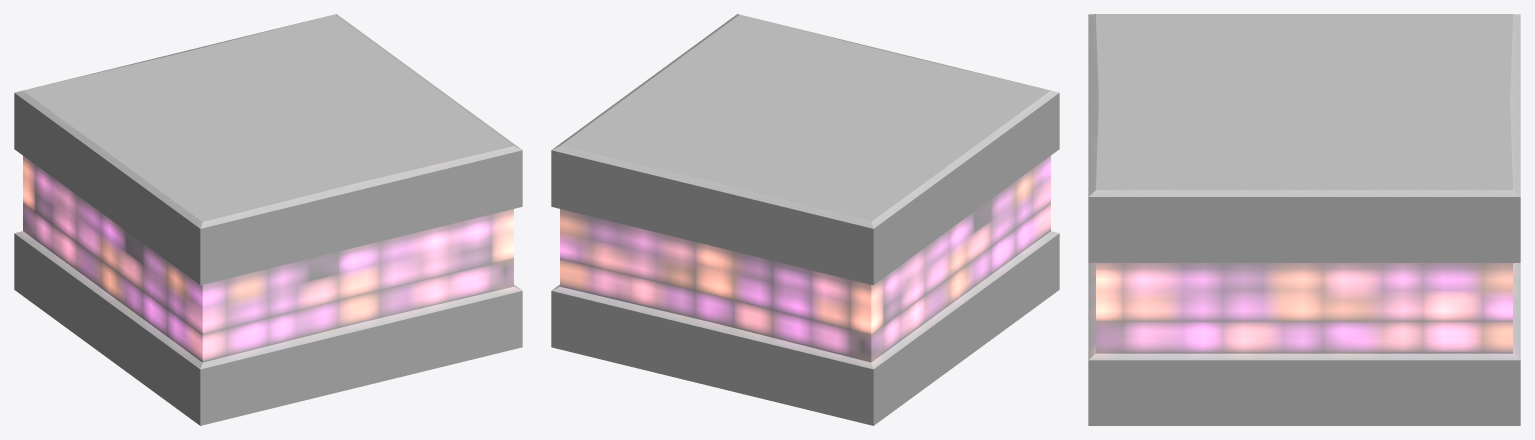
The model's file is BuildingHalfRoofBlock.fbx.
3 views of the same model, side by side, from view 1: azimuth 30°, elevation 25°; view 2: azimuth 150°, elevation 25°; view 3: azimuth 270°, elevation 25° (orthographic). The views are drawn at different scales.
Parts seen in each view (by area): view 1: BuildingHalfRoof; view 2: BuildingHalfRoof; view 3: BuildingHalfRoof.
Part boxes in pixels (x1,y1,x2,y2): BuildingHalfRoof: (14,14,522,425); BuildingHalfRoof: (551,14,1059,425); BuildingHalfRoof: (1088,14,1520,425).
Bounding box in the file's own units: 200 × 119 × 200.
